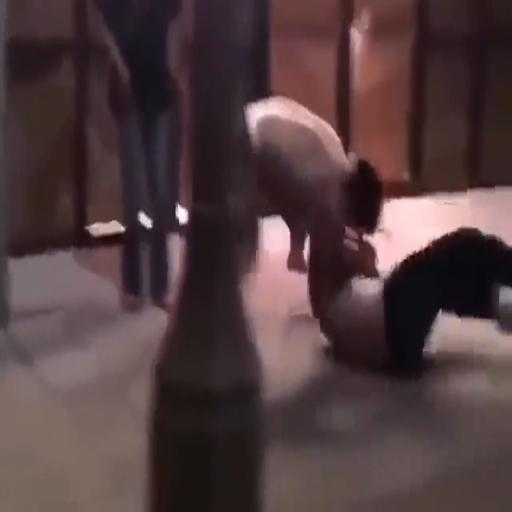violencia: (228, 62, 512, 394)
